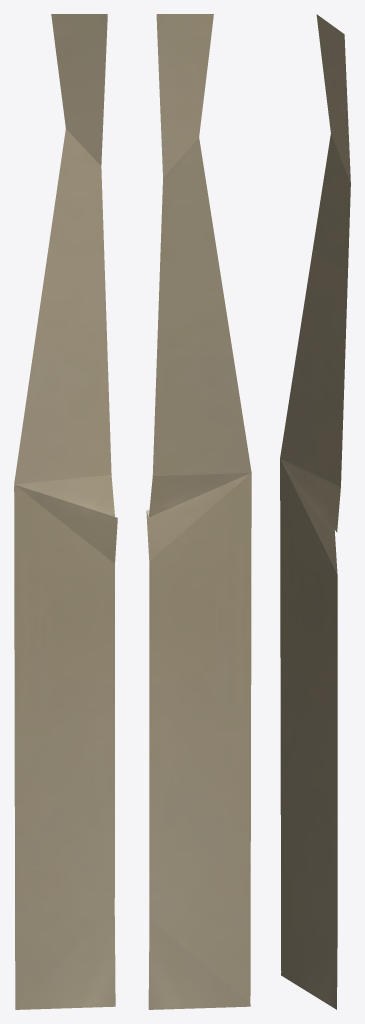
3 renders of one model, left to right at view 1: azimuth 30°, elevation 25°; view 2: azimuth 210°, elevation 25°; view 3: azimuth 330°, elevation 25°, orthographic. The views are drawn at different scales.
Size of the model in its own units: 0.1415 by 1.67 by 0.0739.
1 material, 1 textured.
